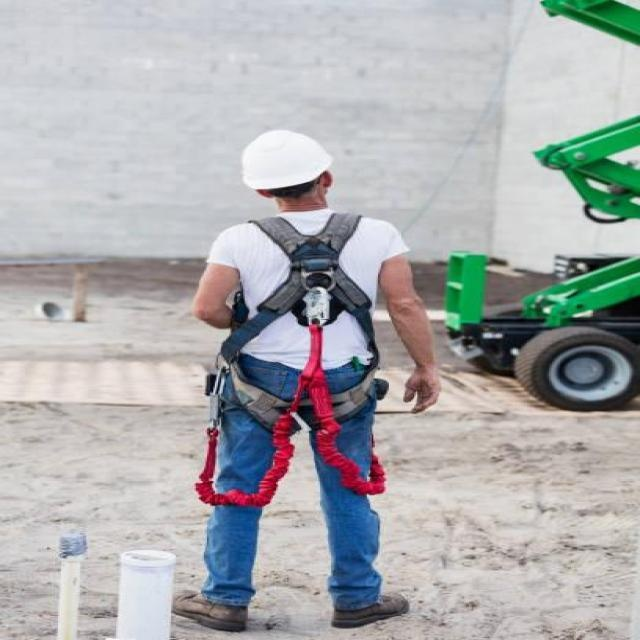Arnes_seguridad: (218, 212, 381, 440)
